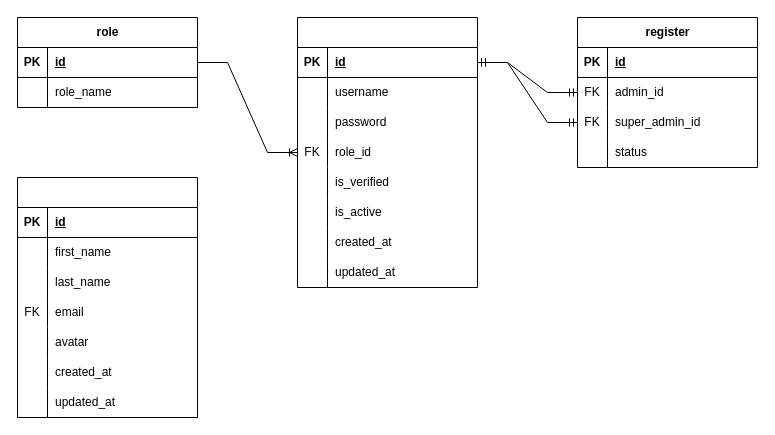
This 775x435 diagram has some shape labels left out. Here are the shapes that lost their labels. From the top down, the box of each, then its label:
(296, 16, 478, 288): actor
(16, 176, 198, 418): customer
